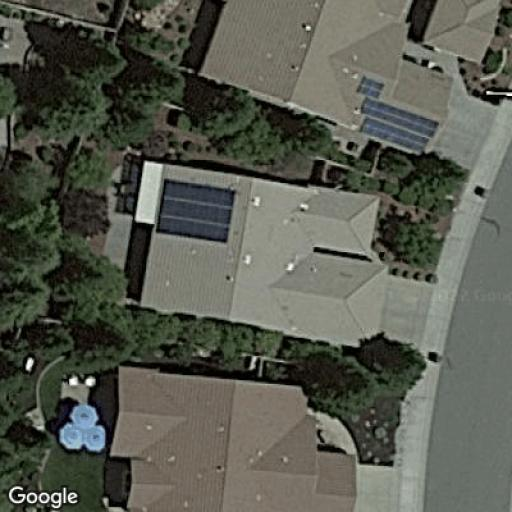solar-panel: (355, 74, 440, 152), (154, 177, 239, 244)
